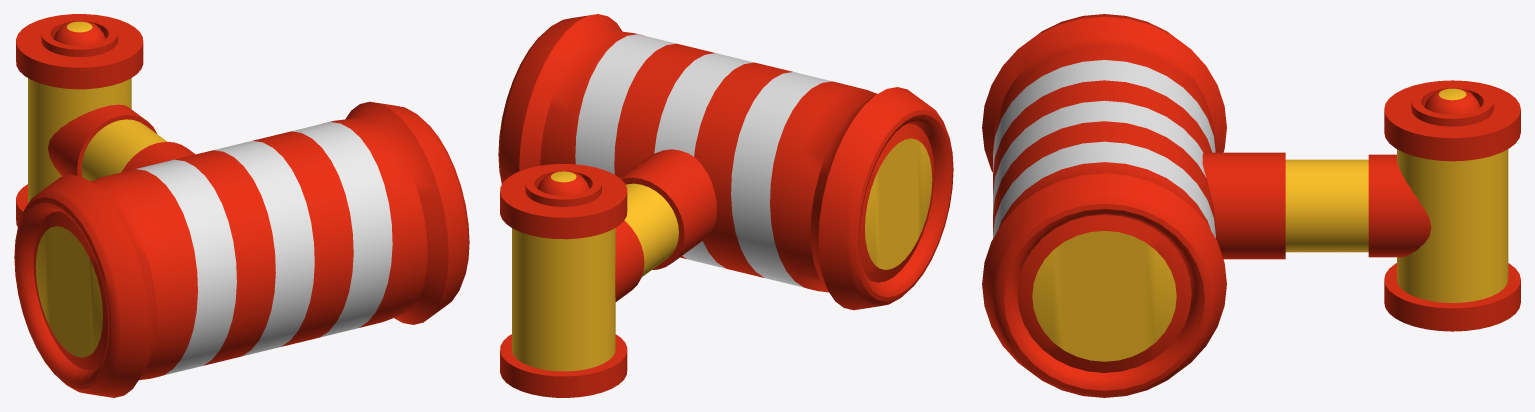
The model's file is marteau.glb.
3 views of the same model, side by side, from view 1: azimuth 30°, elevation 25°; view 2: azimuth 150°, elevation 25°; view 3: azimuth 270°, elevation 25° (orthographic). The views are drawn at different scales.
Visible parts, largest first — view 1: Cylinder.004; view 2: Cylinder.004; view 3: Cylinder.004.
Part boxes in pixels (bbox=[...]): Cylinder.004: bbox=[14, 14, 469, 397]; Cylinder.004: bbox=[498, 14, 953, 397]; Cylinder.004: bbox=[982, 14, 1520, 397].
Bounding box in the file's own units: 3.17 × 1.76 × 3.85.
